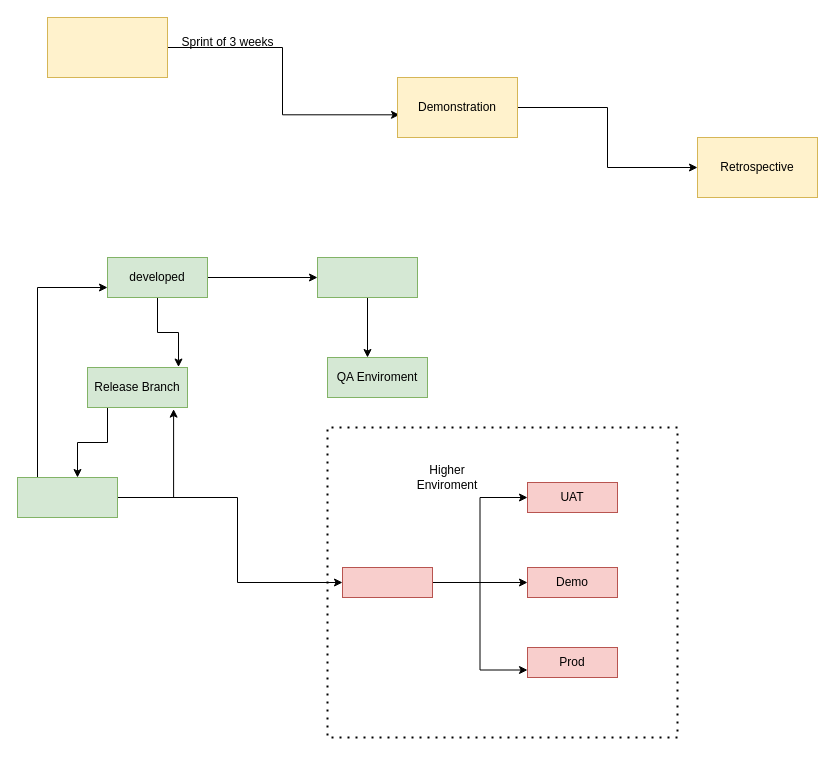
The diagram is 835 pixels wide and 757 high, and some of its shapes have lost their labels. Each missing label, with the box of its shape:
Bug Fix: (16, 476, 118, 518)
dev Enviroment: (316, 256, 418, 298)
Grooming: (46, 16, 168, 78)
Stag enviroment: (342, 566, 432, 598)
